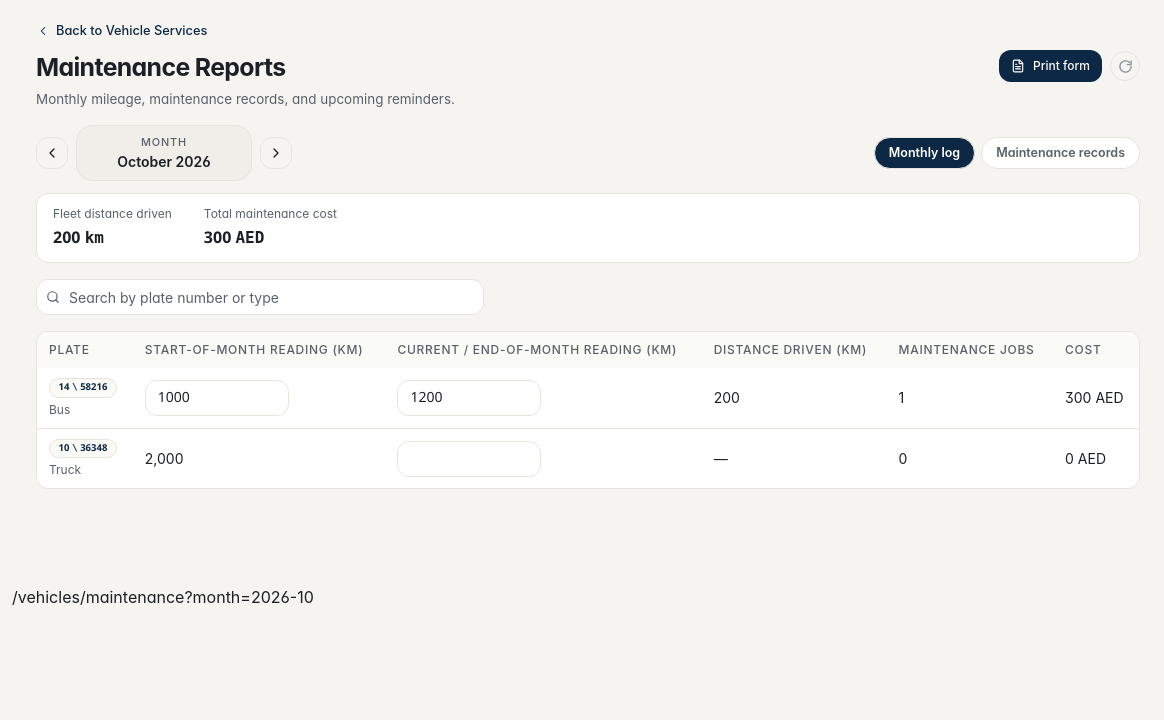
monthly vehicle maintenance › stores the month, tab and all-months filter in the URL
Expected: the text "Bus" is shown, [49, 402, 70, 418]
Click the button "Maintenance records": x=1061, y=153 [981, 137, 1140, 169]
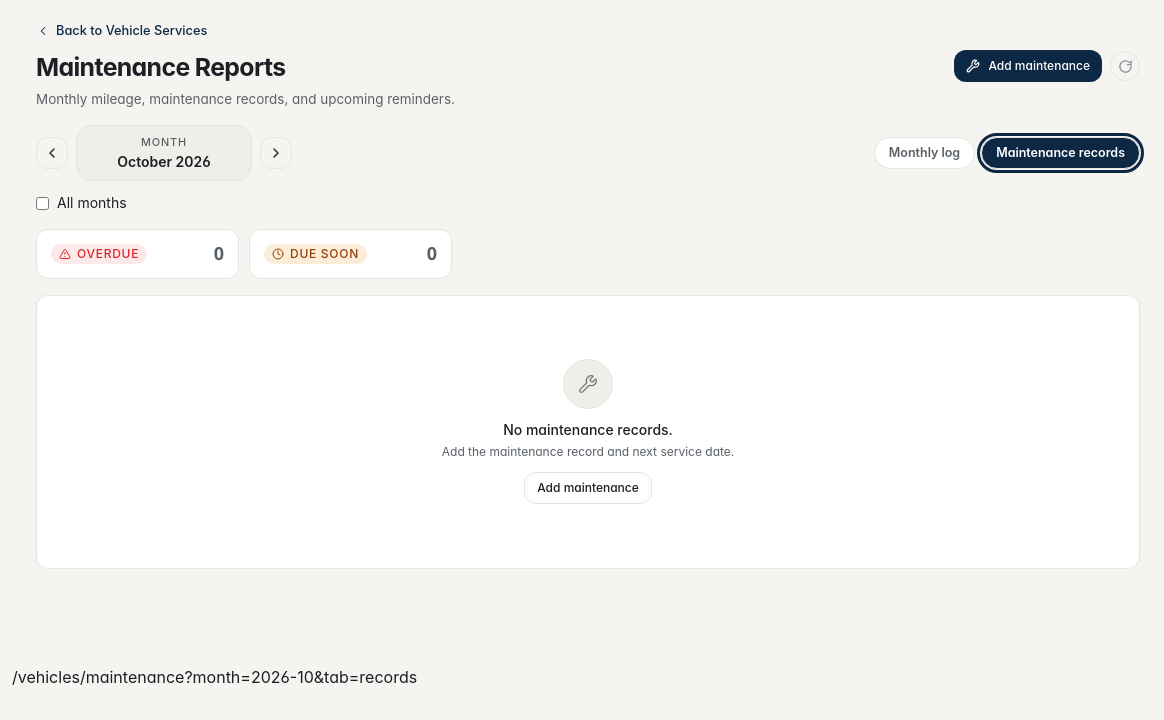
Click the checkbox labelled "All months": x=42, y=203 [36, 197, 49, 210]
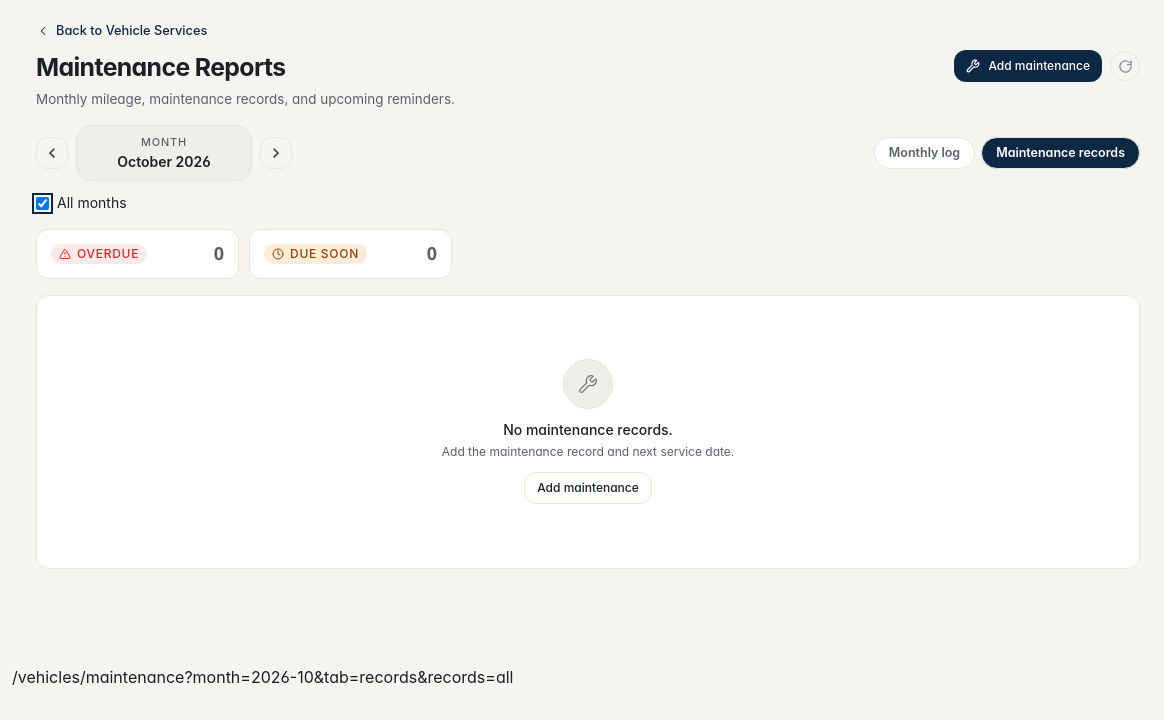
Now the text "/vehicles/maintenance?month=2026-10&tab=records&records=all" is shown, box [12, 667, 513, 687]
Click the button named "Next month": x=276, y=153 [260, 137, 292, 169]
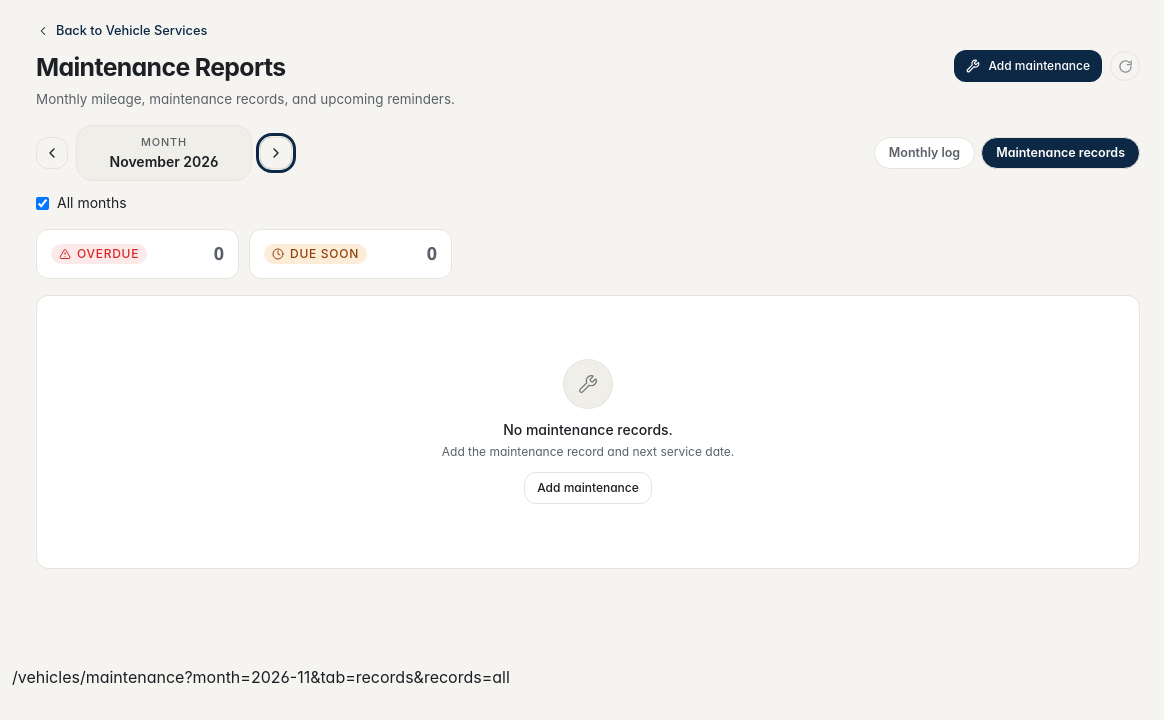
Now the text "November 2026" is shown, box [110, 153, 218, 170]
Click the button "Monthly log": x=924, y=153 [874, 137, 975, 169]
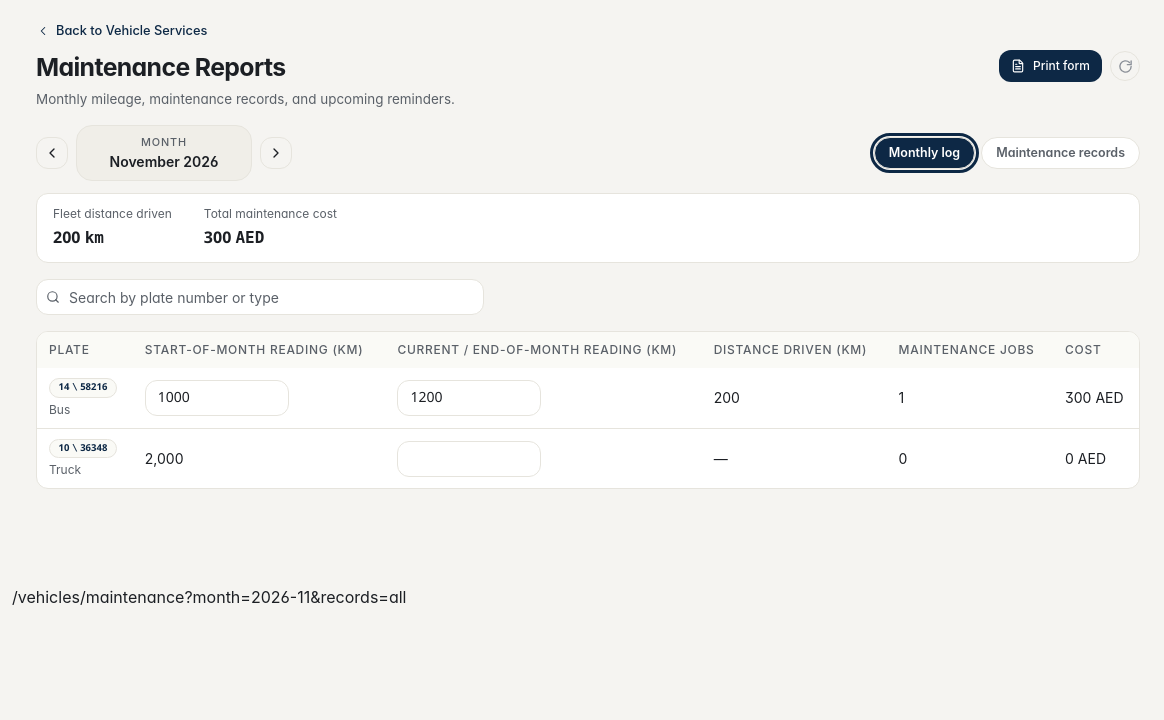
Now the text "/vehicles/maintenance?month=2026-11&records=all" is shown, box [12, 587, 406, 607]
